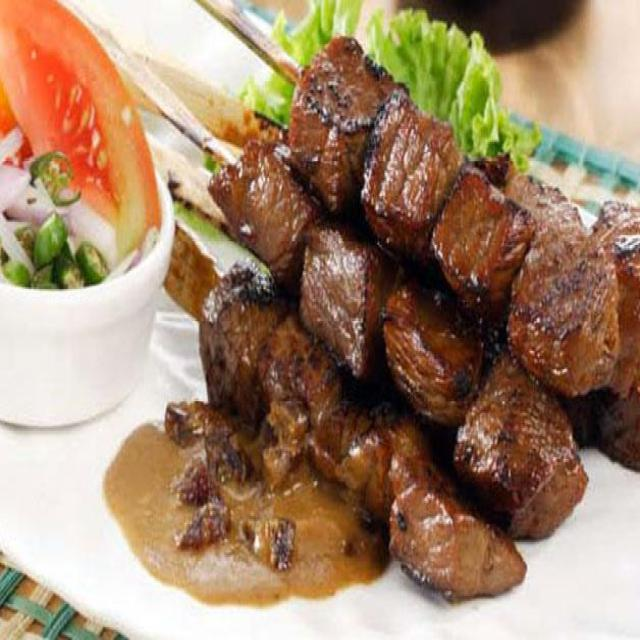Sate: (143, 21, 598, 572)
